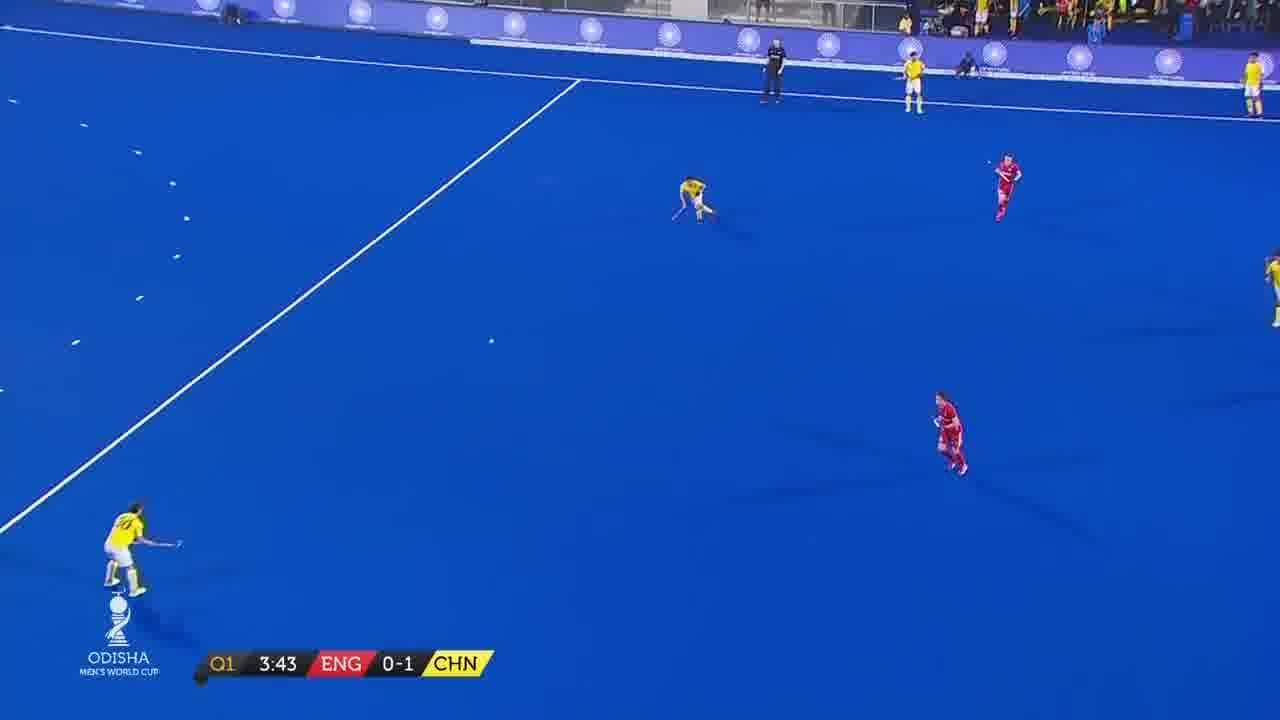ball: (484, 336, 498, 346)
